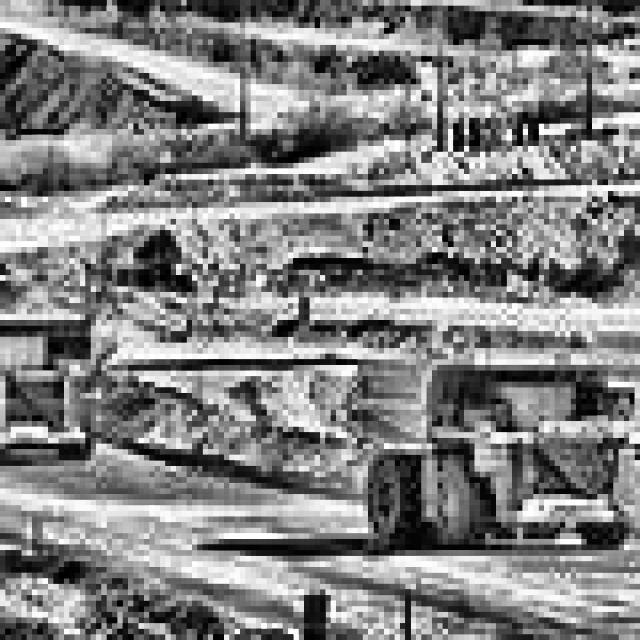dump_truck: (336, 320, 640, 567), (0, 264, 112, 471)
